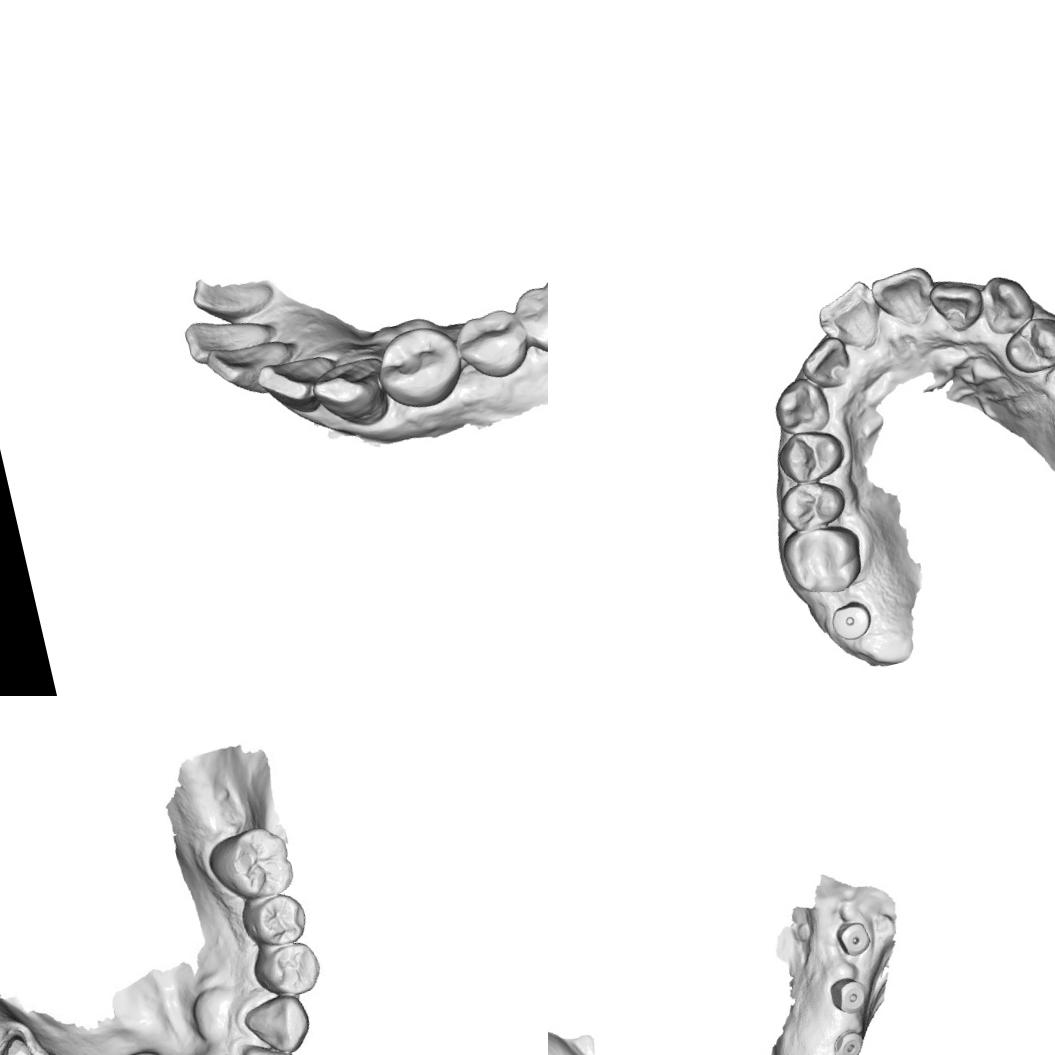canine: (308, 348, 394, 435), (237, 990, 314, 1055), (973, 268, 1040, 341), (766, 372, 835, 441)
crown: (0, 1032, 51, 1055)
implant: (826, 597, 876, 645), (826, 973, 870, 1019), (834, 916, 875, 961), (829, 1027, 867, 1055)
incisor: (810, 275, 888, 361), (178, 304, 278, 370), (208, 331, 296, 400), (866, 262, 942, 334), (258, 350, 338, 417), (926, 272, 987, 337), (794, 332, 856, 394), (243, 1036, 307, 1055)
molar: (202, 820, 296, 908), (777, 518, 871, 604), (507, 266, 548, 363)
premolar: (369, 319, 470, 416), (450, 301, 535, 388), (771, 422, 850, 490), (247, 939, 329, 1001), (774, 472, 850, 538), (238, 888, 312, 952), (998, 310, 1055, 379)
